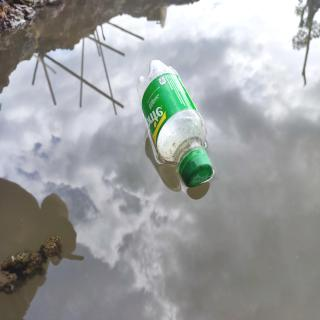bottle: (134, 56, 215, 190)
